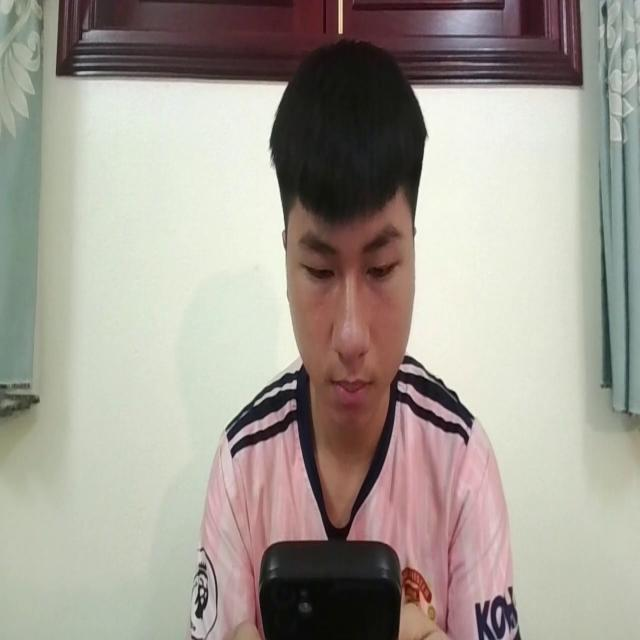phone: (256, 535, 404, 640)
student: (188, 35, 515, 640)
